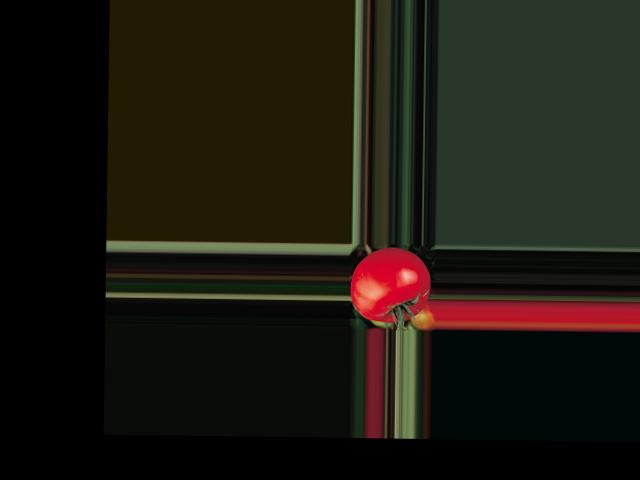tomato: (349, 246, 429, 322)
